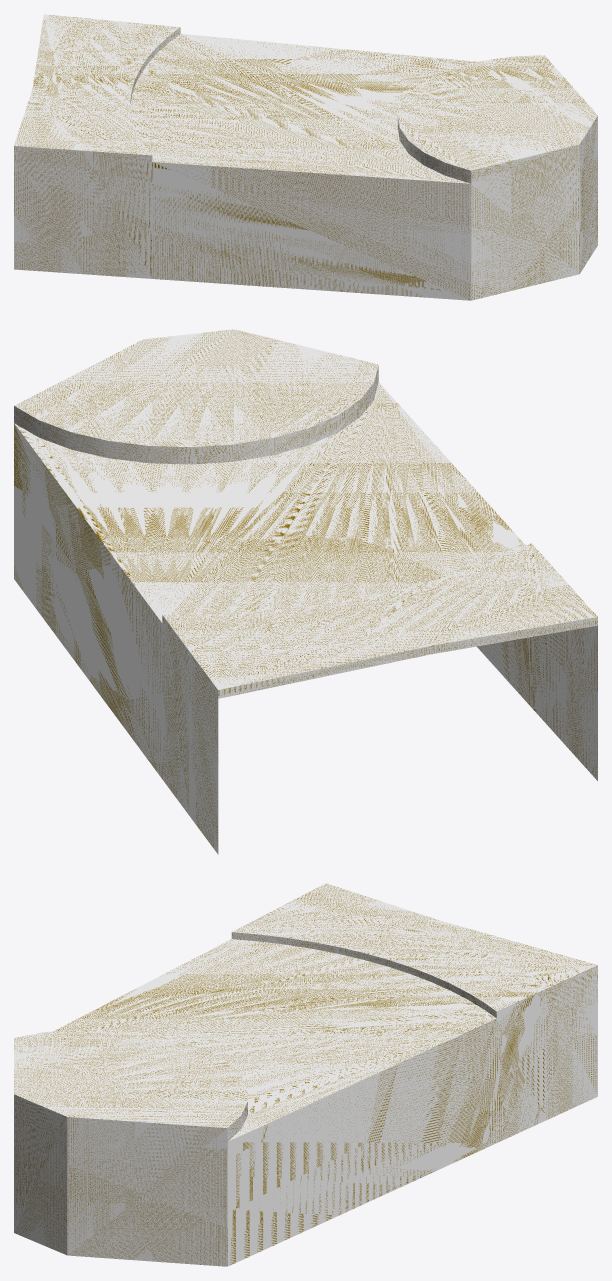
Rendered from Sword2.dae.
3 renders of one model, top to bottom at view 1: azimuth 30°, elevation 25°; view 2: azimuth 150°, elevation 25°; view 3: azimuth 270°, elevation 25°, orthographic. The views are drawn at different scales.
Visible parts, largest first — view 1: SketchUp; view 2: SketchUp; view 3: SketchUp.
Part boxes in pixels (x1=…): SketchUp: x1=14, y1=14, x2=597, y2=300; SketchUp: x1=14, y1=329, x2=597, y2=854; SketchUp: x1=14, y1=883, x2=597, y2=1266.
Size of what is drawn, in the model's own units: 4.87 by 4.77 by 1.25.
